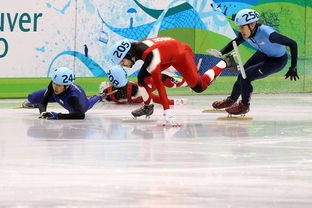falling: (105, 31, 234, 111)
